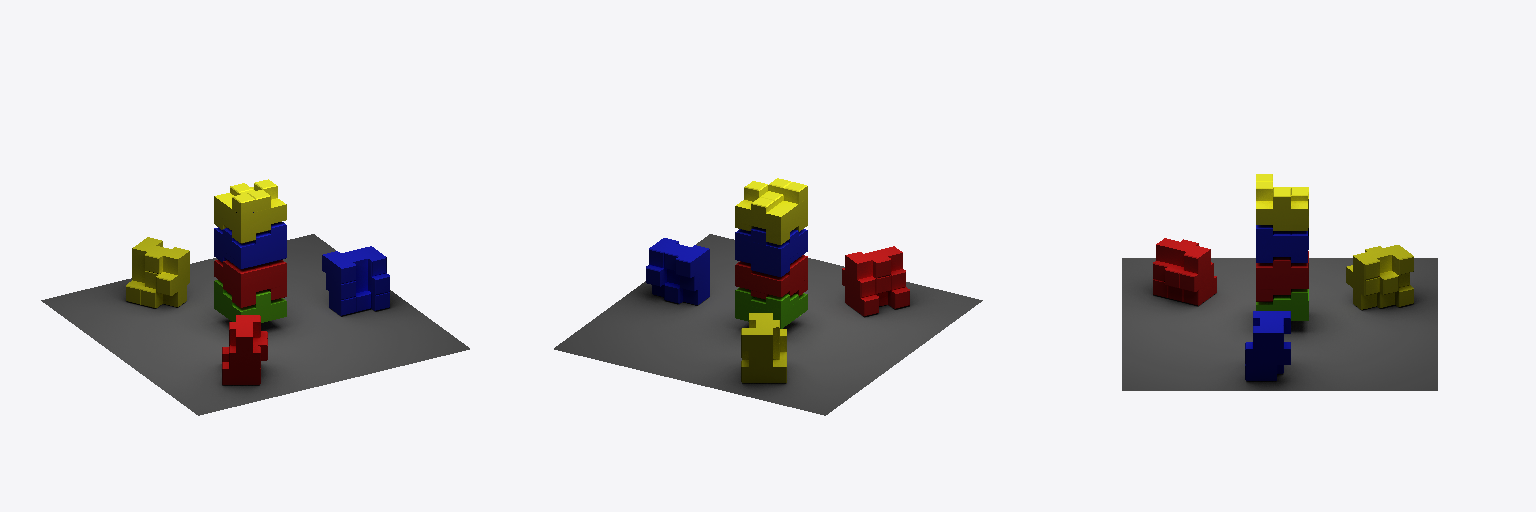
3 views of the same model, side by side, from view 1: azimuth 30°, elevation 25°; view 2: azimuth 150°, elevation 25°; view 3: azimuth 270°, elevation 25° (orthographic).
Visible parts, largest first — view 1: object_1.004; view 2: object_1.004; view 3: object_1.004.
Part boxes in pixels (x1,y1,x2,y2): object_1.004: (41,179,469,415); object_1.004: (554,178,982,415); object_1.004: (1122,174,1437,390).
Bounding box in the file's own units: 89.3 × 43.02 × 89.3.
2 materials, 2 textured.